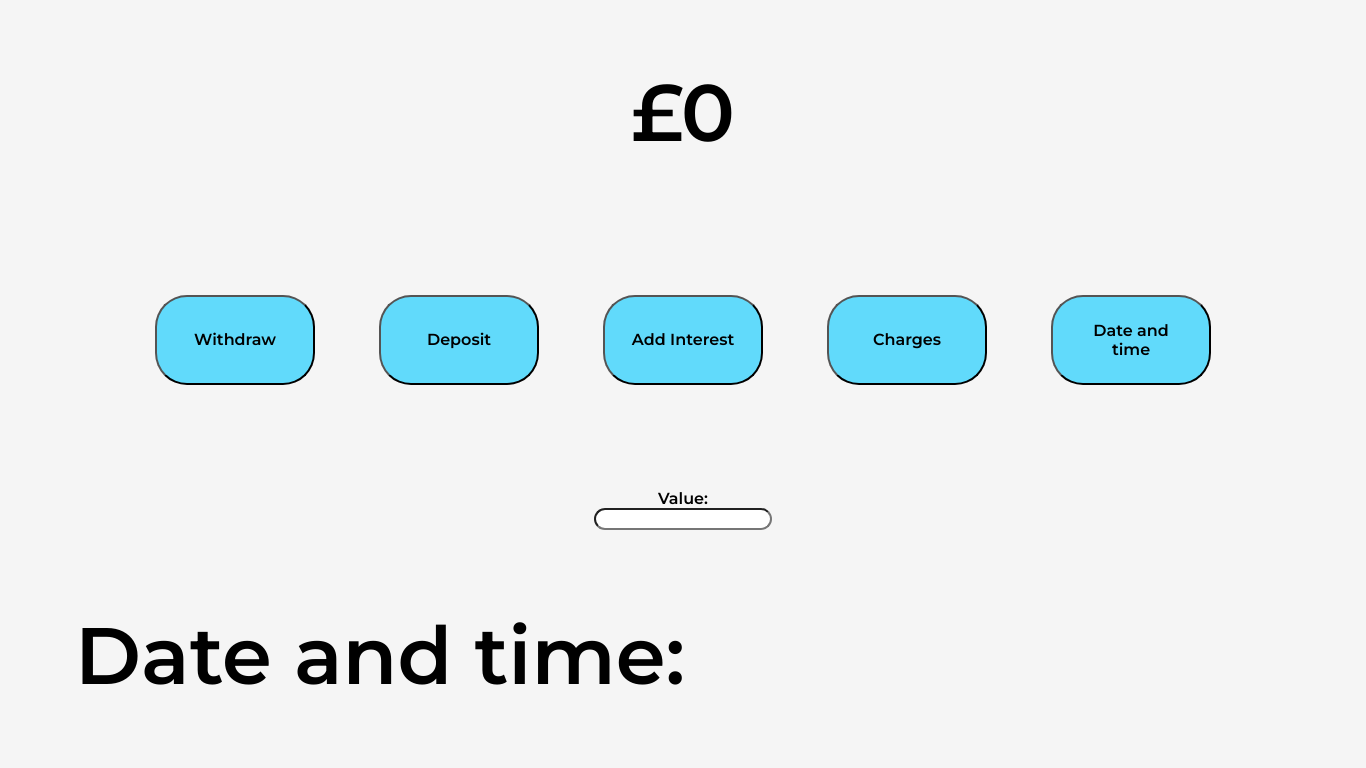
Scenario: App component › updates value after deposit
Type "100" into the field labelled "Value:" at {"x": 683, "y": 518}, box [594,508,772,530]
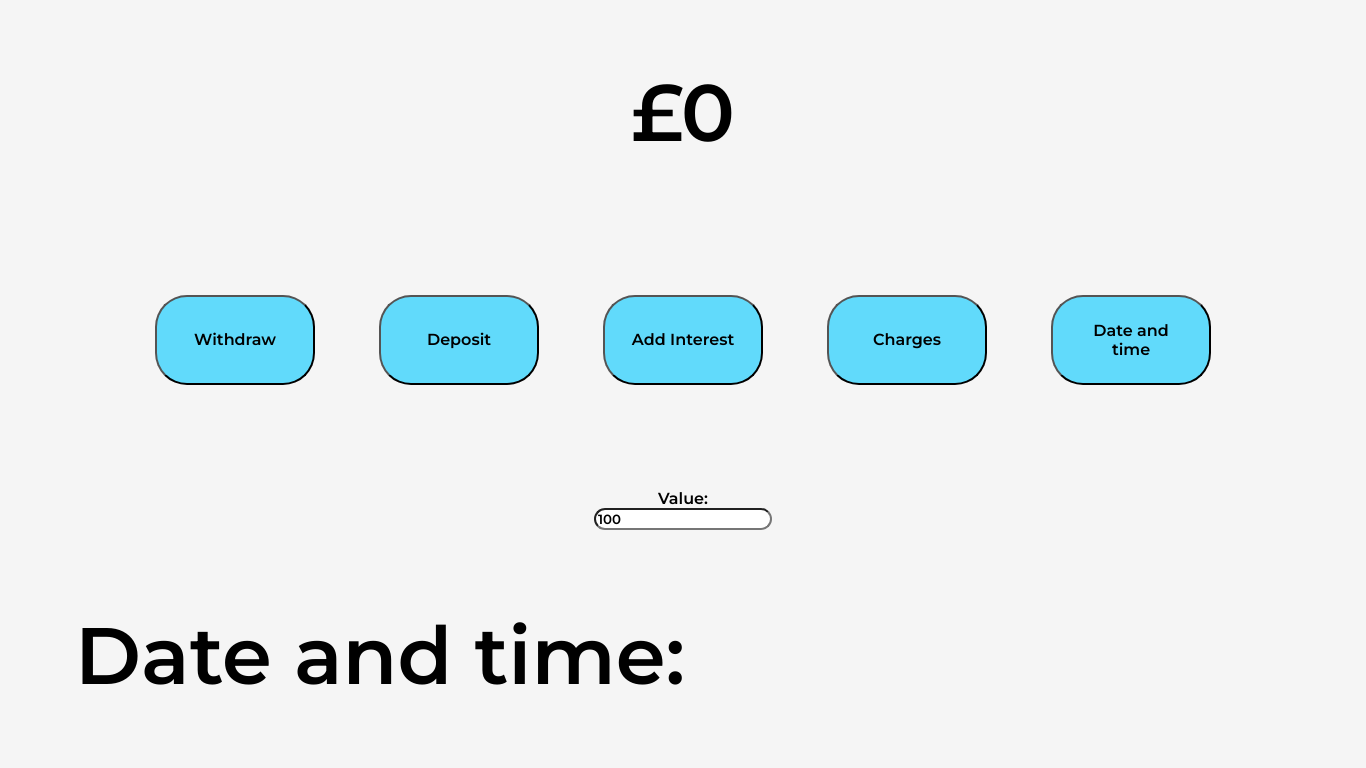
Click the button "Deposit" at {"x": 459, "y": 340}, box [379,294,539,384]
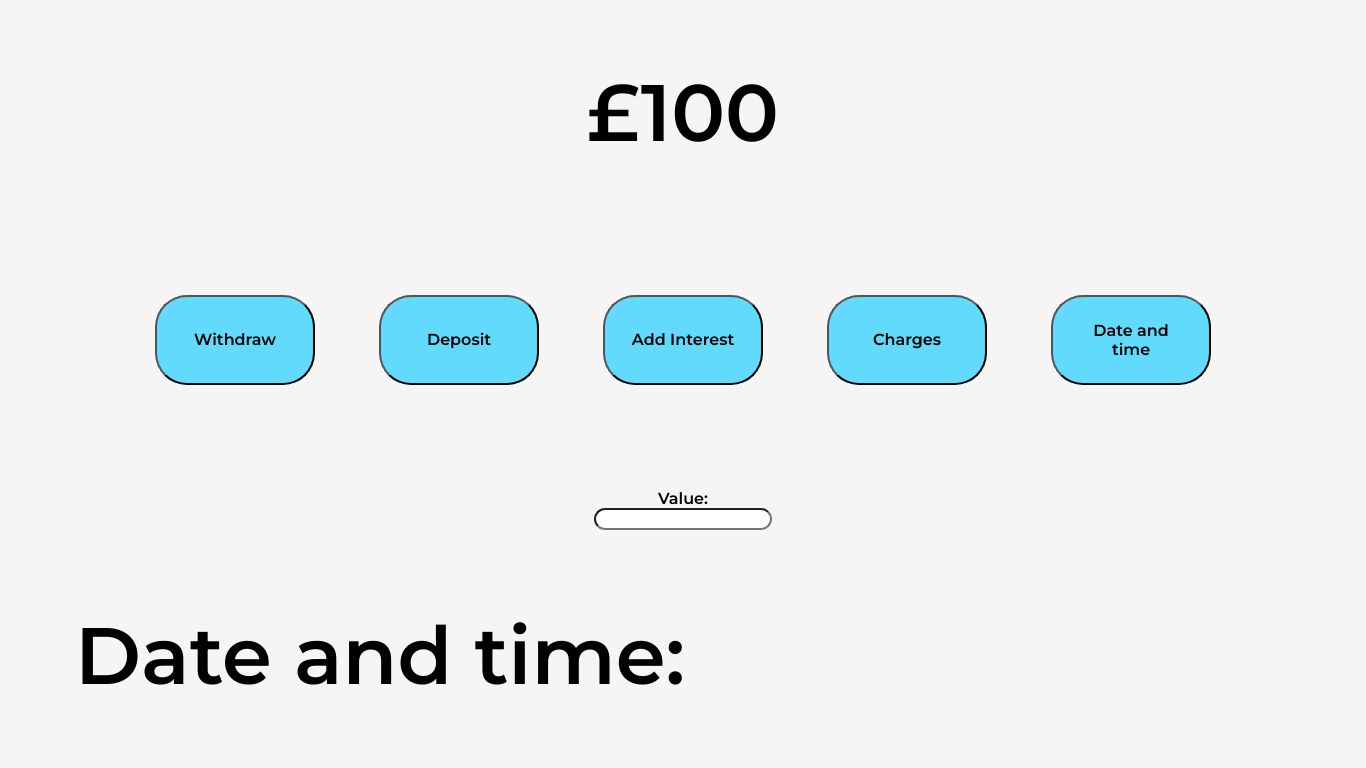
Result: the heading "£100" is shown at [587,64,779,161]
